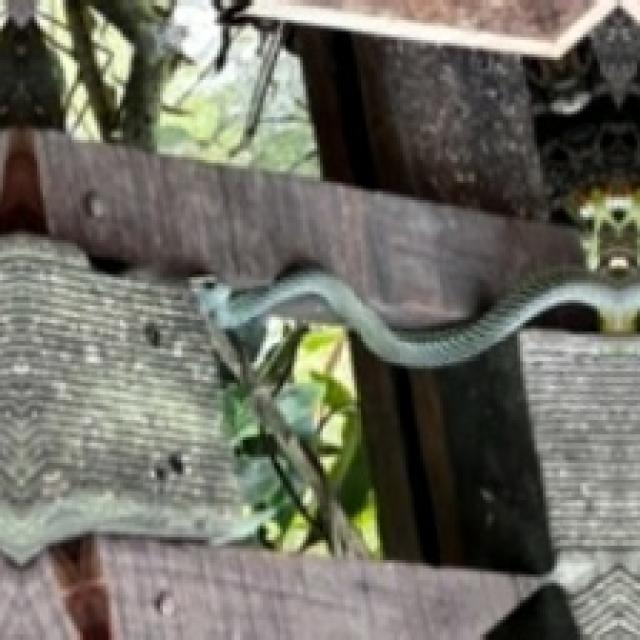paradise tree snake: (194, 269, 637, 366)
